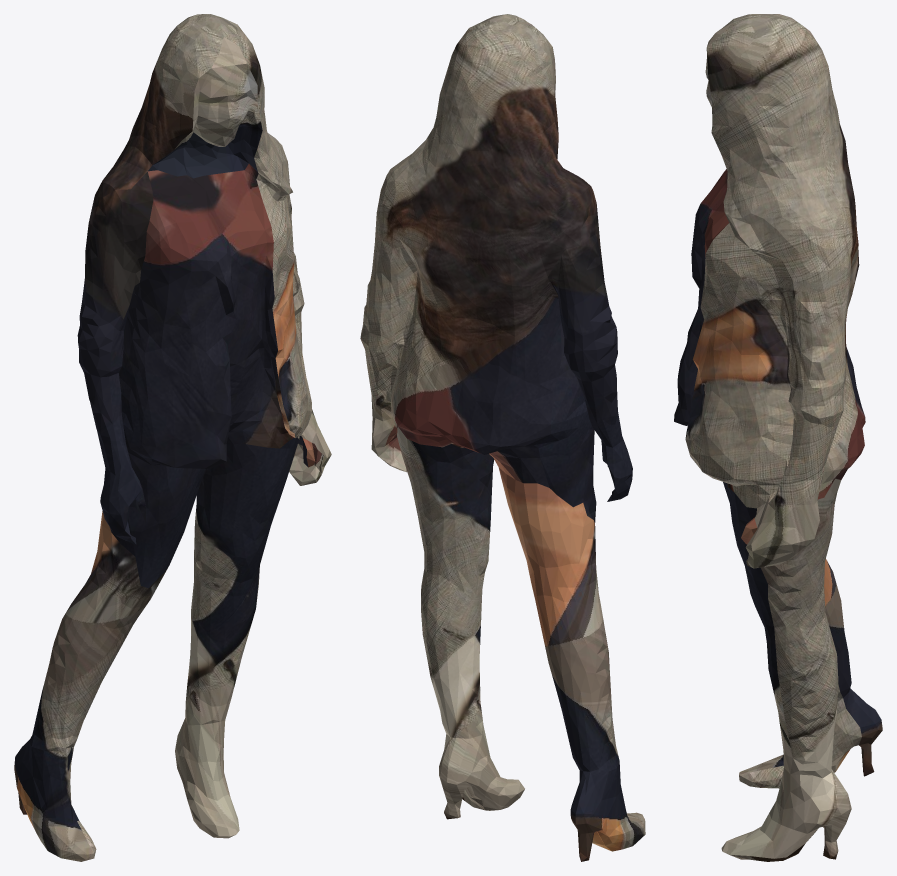
The model's file is girl_16.glb.
3 views of the same model, side by side, from view 1: azimuth 30°, elevation 25°; view 2: azimuth 150°, elevation 25°; view 3: azimuth 270°, elevation 25° (orthographic). The views are drawn at different scales.
Parts seen in each view (by area): view 1: girl_16; view 2: girl_16; view 3: girl_16.
Boxes of the visible parts, left/top/right/bottom form: girl_16: left=14, top=14, right=331, bottom=861; girl_16: left=360, top=14, right=645, bottom=861; girl_16: left=674, top=14, right=882, bottom=861.
Size of the model in its own units: 0.5331 by 1.52 by 0.3442.
1 material, 1 textured.
